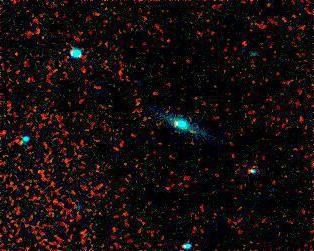star: (126, 90, 156, 120)
